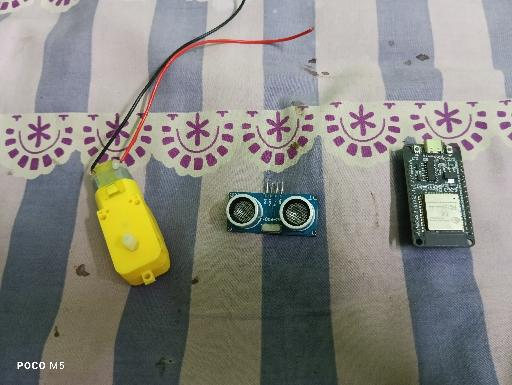Esp32: (401, 139, 476, 248)
Motor: (89, 160, 171, 287)
sensor: (225, 182, 319, 237)
